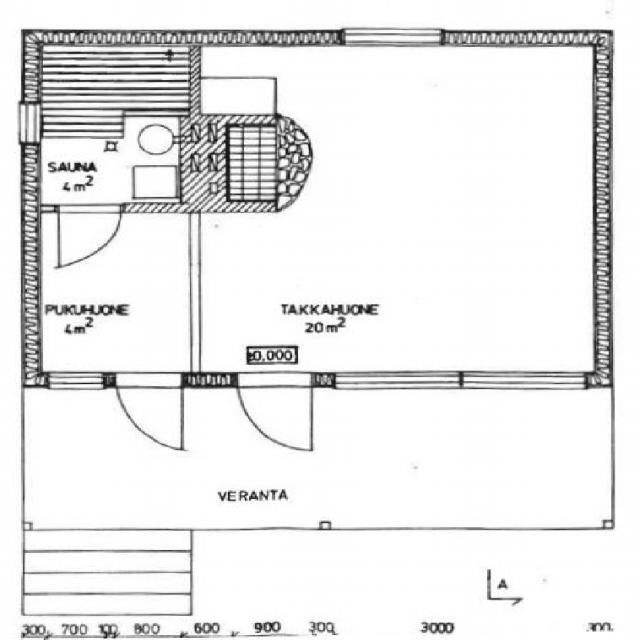door: (237, 372, 312, 449), (118, 372, 182, 442), (58, 203, 121, 264)
